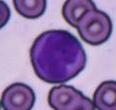M: (30, 29, 86, 83)
